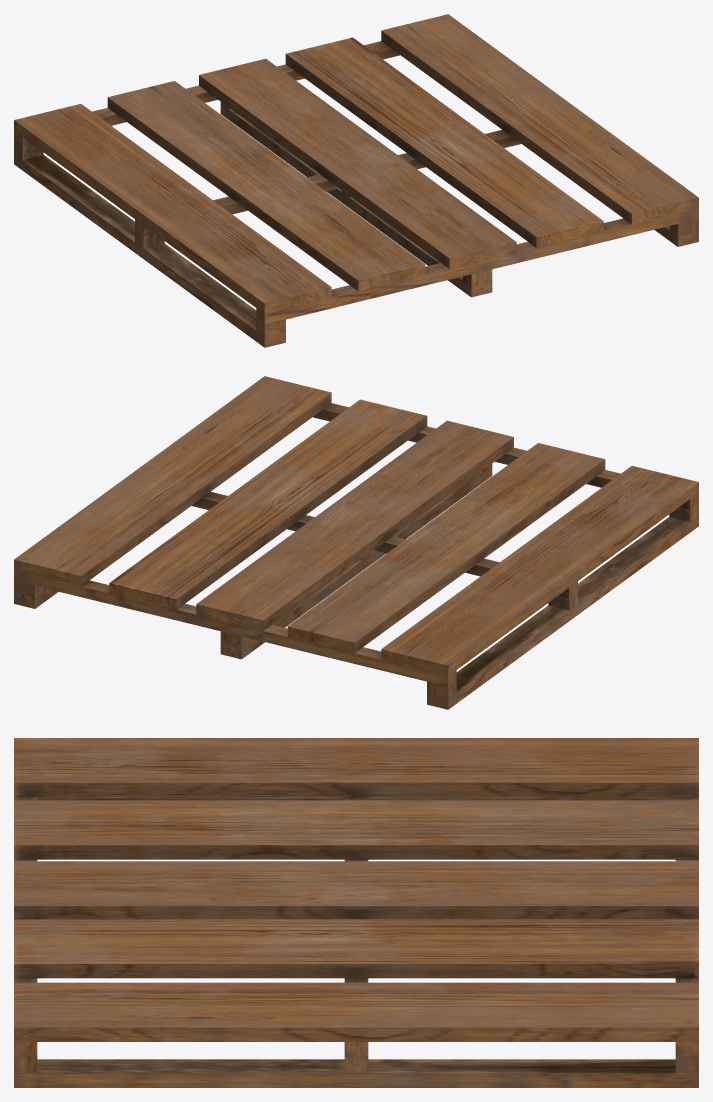
Rendered from Pallet.fbx.
The picture shows the model from 3 angles, top to bottom: view 1: azimuth 30°, elevation 25°; view 2: azimuth 150°, elevation 25°; view 3: azimuth 270°, elevation 25°; orthographic projection. The views are drawn at different scales.
Visible parts, largest first — view 1: pCube59, pCube60, pCube56, pCube57, pCube58, pCube32, pCube44, pCube30, pCube43, pCube42; view 2: pCube59, pCube60, pCube56, pCube57, pCube58, pCube32, pCube42, pCube30, pCube43, pCube44; view 3: pCube56, pCube57, pCube59, pCube60, pCube58, pCube31, pCube32, pCube43, pCube42, pCube44.
Part boxes in pixels (x1,y1,x2,y2): pCube59: (285, 37, 603, 247); pCube60: (107, 81, 425, 291); pCube56: (381, 14, 698, 224); pCube57: (14, 104, 331, 313); pCube58: (199, 58, 516, 268); pCube32: (14, 154, 285, 347); pCube44: (256, 208, 698, 324); pCube30: (220, 104, 492, 297); pCube43: (135, 130, 521, 235); pCube42: (14, 41, 399, 147); pCube59: (109, 399, 427, 609); pCube60: (287, 443, 605, 653); pCube56: (14, 376, 331, 586); pCube57: (381, 466, 698, 675); pCube58: (196, 420, 513, 630); pCube32: (427, 516, 698, 709); pCube42: (14, 570, 456, 686); pCube30: (220, 466, 492, 659); pCube43: (191, 492, 577, 597); pCube44: (313, 403, 698, 509); pCube56: (14, 982, 698, 1041); pCube57: (14, 738, 698, 797); pCube59: (14, 919, 698, 978); pCube60: (14, 800, 698, 859); pCube58: (14, 861, 698, 919); pCube31: (14, 1059, 698, 1087); pCube32: (37, 797, 675, 800); pCube43: (344, 797, 368, 1056); pCube42: (675, 797, 698, 1056); pCube44: (14, 797, 37, 1056).
Size of the model in its own units: 1 by 0.0973 by 1.
